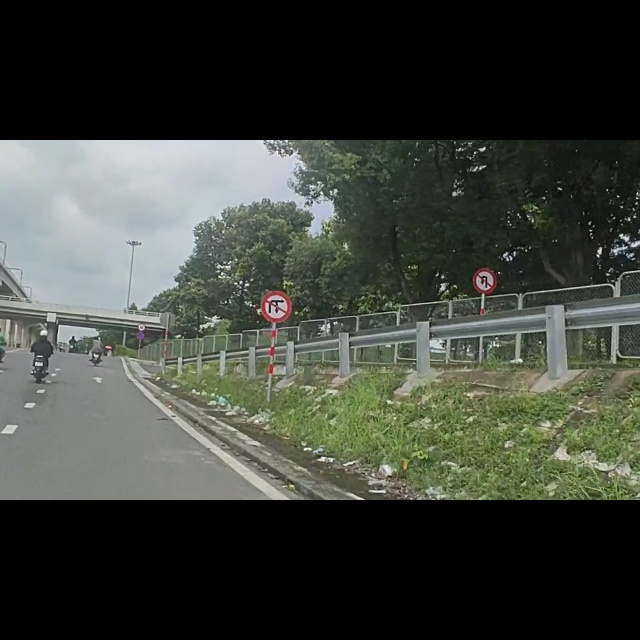bien_cam: (261, 267, 292, 326), (473, 228, 497, 274), (137, 326, 147, 339), (136, 341, 145, 354)
